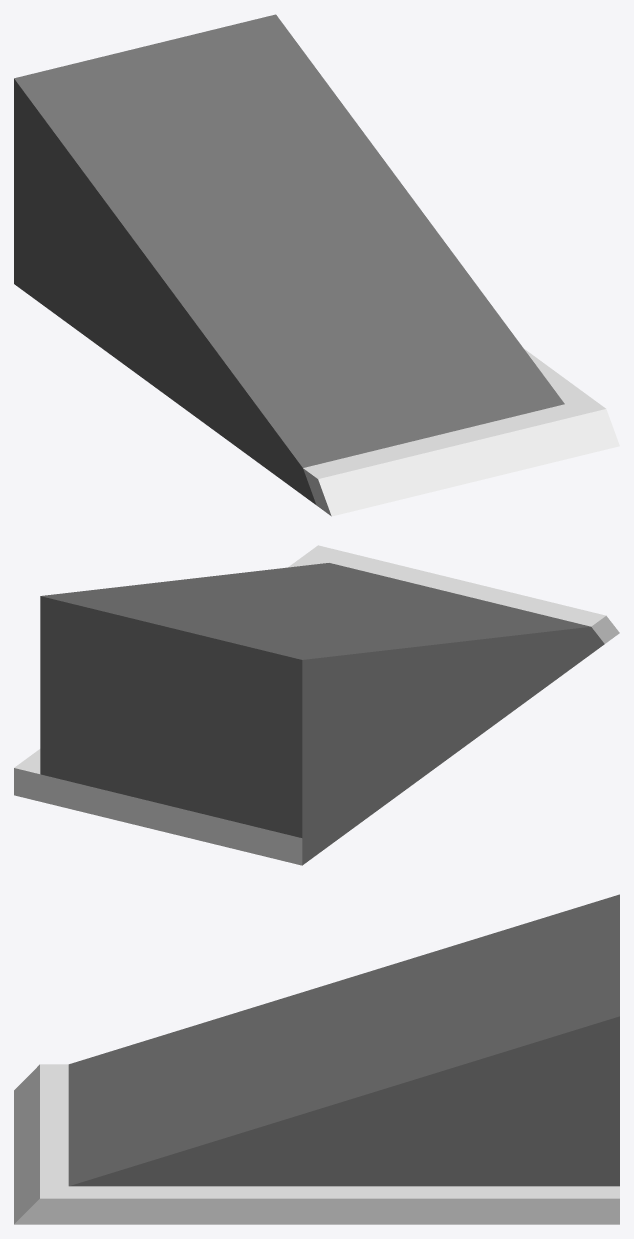
Rendered from RoofShedSmallLeft.glb.
The picture shows the model from 3 angles, top to bottom: view 1: azimuth 30°, elevation 25°; view 2: azimuth 150°, elevation 25°; view 3: azimuth 270°, elevation 25°; orthographic projection. The views are drawn at different scales.
Parts seen in each view (by area): view 1: RoofShedSmallLeft; view 2: RoofShedSmallLeft; view 3: RoofShedSmallLeft.
Boxes of the visible parts, left/top/right/bottom form: RoofShedSmallLeft: left=14, top=14, right=619, bottom=516; RoofShedSmallLeft: left=14, top=545, right=619, bottom=865; RoofShedSmallLeft: left=14, top=894, right=619, bottom=1224.
Bounding box in the file's own units: 1.1 × 0.75 × 2.1.
Materials: 1 (1 with a texture image).
